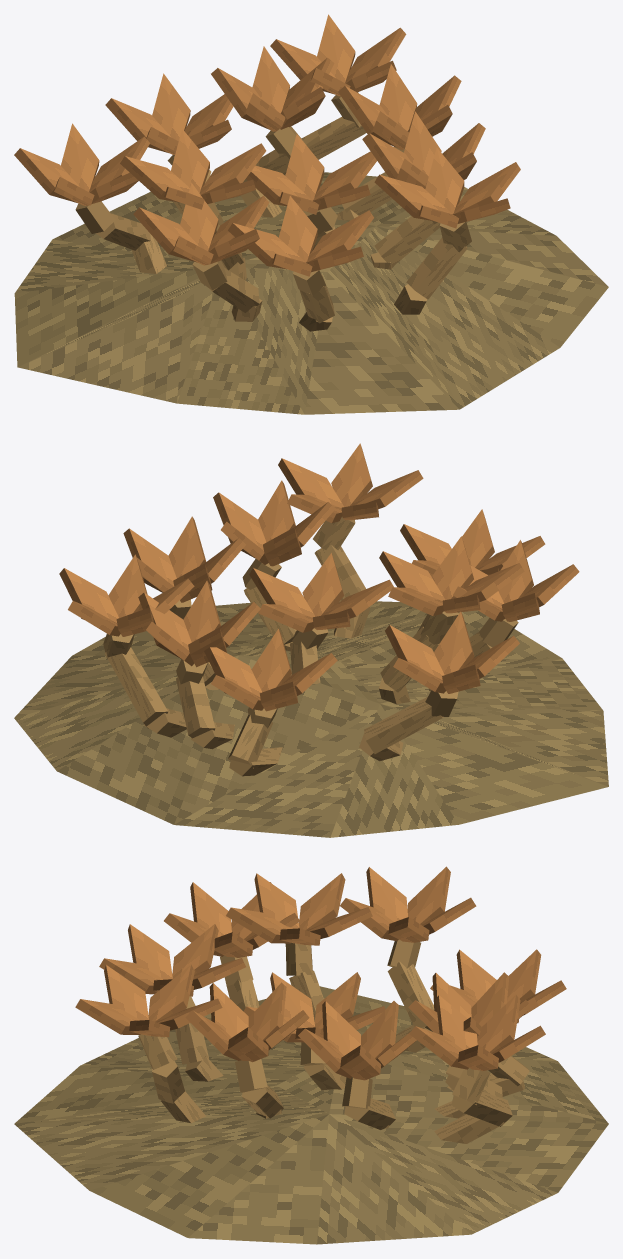
Rendered from f_nm_nether_lichen.glb.
3 renders of one model, top to bottom at view 1: azimuth 30°, elevation 25°; view 2: azimuth 150°, elevation 25°; view 3: azimuth 270°, elevation 25°, orthographic.
Parts seen in each view (by area): view 1: block_root-substrate, block_folded-petal (×48), block_segmented-plant-stem-2 (×8), block_segmented-plant-stem-3 (×6), block_segmented-plant-stem-1 (×2); view 2: block_root-substrate, block_folded-petal (×50), block_segmented-plant-stem-2 (×8), block_segmented-plant-stem-3 (×5), block_segmented-plant-stem-1 (×4); view 3: block_root-substrate, block_folded-petal (×45), block_segmented-plant-stem-2 (×10), block_segmented-plant-stem-3 (×6), block_segmented-plant-stem-1 (×3).
Part boxes in pixels (box(x1,y1,x2,y2)): block_root-substrate: box(14, 172, 608, 414); block_folded-petal (×48): box(14, 14, 520, 272); block_segmented-plant-stem-2 (×8): box(96, 117, 467, 323); block_segmented-plant-stem-3 (×6): box(75, 126, 471, 295); block_segmented-plant-stem-1 (×2): box(131, 234, 426, 314); block_root-substrate: box(14, 600, 608, 837); block_folded-petal (×50): box(59, 443, 579, 711); block_segmented-plant-stem-2 (×8): box(104, 545, 443, 768); block_segmented-plant-stem-3 (×5): box(103, 517, 518, 716); block_segmented-plant-stem-1 (×4): box(144, 607, 370, 776); block_root-substrate: box(14, 986, 608, 1244); block_folded-petal (×45): box(75, 866, 566, 1080); block_segmented-plant-stem-2 (×10): box(152, 961, 529, 1129); block_segmented-plant-stem-3 (×6): box(138, 939, 489, 1108); block_segmented-plant-stem-1 (×3): box(160, 1056, 504, 1143).
Size of the model in its own units: 0.8803 by 0.2777 by 0.8548.
1 material, 1 textured.
